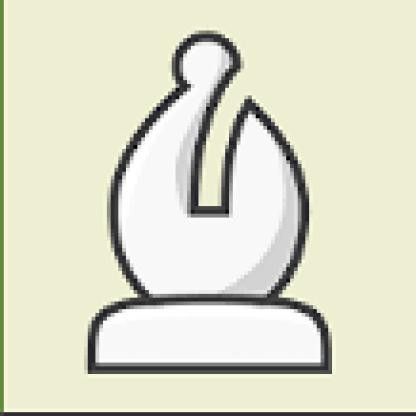White Bishop: (68, 27, 354, 384)
